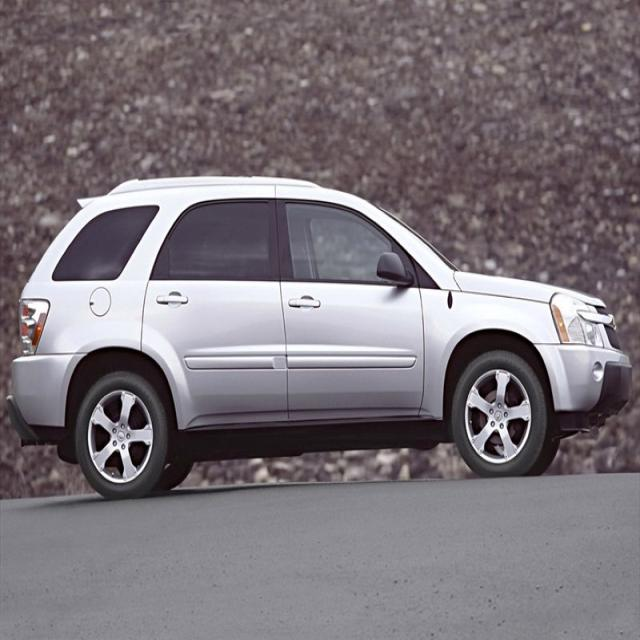back_right_side_light: (17, 294, 53, 356)
door: (140, 195, 293, 452)
front_bumper: (533, 340, 633, 430)
front_right_side_door: (274, 196, 426, 424)
front_right_side_light: (547, 289, 606, 346)
front_right_side_mirror: (376, 250, 412, 286)
rear_bumper: (10, 351, 88, 444)
wheel: (452, 349, 547, 475), (74, 371, 168, 498)
